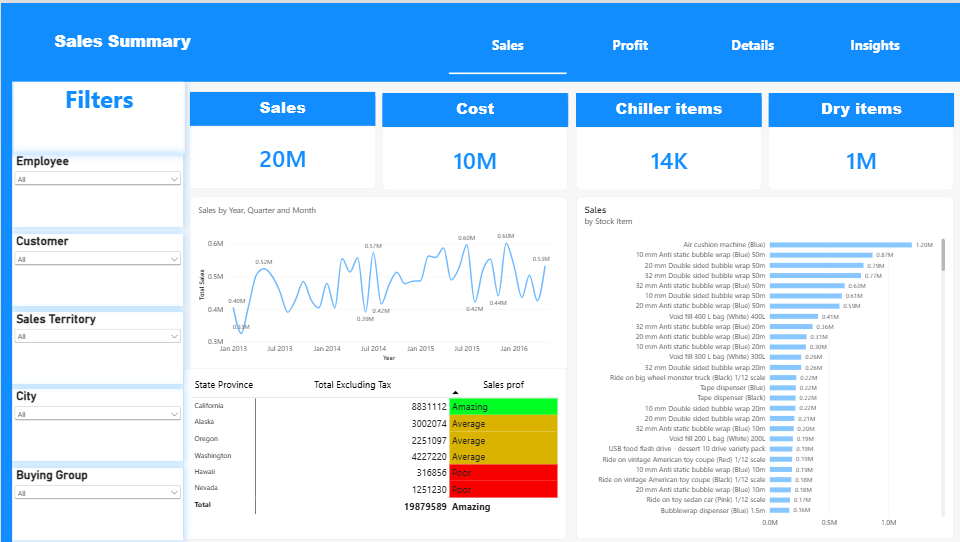

The dashboard page shown, as its layout file describes it:
{"tool":"powerbi","page":{"name":"Sales","canvas":[1920,1080],"ordinal":0},"visuals":[{"type":"shape","box":[0,0,1919.2,157.7],"z":0},{"type":"shape","box":[0,144.2,23.1,936.5],"z":1000},{"type":"textbox","box":[0,51.8,485.7,66.1],"z":2000},{"type":"shape","box":[23.1,157.7,342.3,923.1],"z":3000},{"type":"cardVisual","title":"Sales","fields":{"Data":["Sum(FactSale.Total Excluding Tax)"]},"box":[376.8,178.6,371.2,194.2],"z":4000},{"type":"cardVisual","title":"Cost","fields":{"Data":["Sum(FactSale.Cost)"]},"box":[761.5,178.8,371.2,194.2],"z":5000},{"type":"cardVisual","title":"Chiller items","fields":{"Data":["Sum(FactSale.Total Chiller Items)"]},"box":[1150,178.8,371.2,194.2],"z":6000},{"type":"cardVisual","title":"Dry items","fields":{"Data":["Sum(FactSale.Total Dry Items)"]},"box":[1534.6,178.8,371.2,194.2],"z":7000},{"type":"lineChart","fields":{"Category":["DimDate.Date.Variation.Date Hierarchy.Year","DimDate.Date.Variation.Date Hierarchy.Quarter","DimDate.Date.Variation.Date Hierarchy.Month","DimDate.Date.Variation.Date Hierarchy.Day"],"Y":["Sum(FactSale.Total Excluding Tax)"]},"box":[376.9,388.5,755.8,346.2],"z":8000},{"type":"pivotTable","fields":{"Rows":["DinCity.State Province"],"Values":["Sum(FactSale.Total Excluding Tax)","FactSale.Sales prof"]},"box":[366.1,730.4,766.1,342.9],"z":9000},{"type":"barChart","fields":{"Category":["DimStockitem.Stock Item"],"Y":["Sum(FactSale.Total Excluding Tax)"]},"box":[1150,388.5,755.8,684.6],"z":10000},{"type":"slicer","fields":{"Values":["DimEmployee.Employee"]},"box":[23.1,301.9,342.3,145],"z":11000},{"type":"slicer","fields":{"Values":["DimCustomer.Customer"]},"box":[23.1,461.5,342.3,144.2],"z":12000},{"type":"slicer","fields":{"Values":["DinCity.Sales Territory"]},"box":[23.1,617.3,342.3,144.2],"z":13000},{"type":"slicer","fields":{"Values":["DinCity.City"]},"box":[23.1,773.1,342.3,144.2],"z":14000},{"type":"slicer","fields":{"Values":["DimCustomer.Buying Group"]},"box":[23.1,928.8,342.3,144.2],"z":15000},{"type":"textbox","box":[24,158,342,144],"z":16000},{"type":"pageNavigator","box":[896,26,974,118],"z":17000}]}

Visuals, with their boxes in screenshot pixels (x1, y1, x2, y2), scaled from the page's 1920x1080 canvas onto the 960x542 screenshot:
shape: crop(0, 0, 959, 79)
shape: crop(0, 72, 12, 541)
textbox: crop(0, 26, 243, 59)
shape: crop(12, 79, 183, 541)
"Sales" cardVisual: crop(188, 90, 374, 187)
"Cost" cardVisual: crop(381, 90, 566, 187)
"Chiller items" cardVisual: crop(575, 90, 761, 187)
"Dry items" cardVisual: crop(767, 90, 953, 187)
lineChart - DimDate.Date.Variation.Date Hierarchy.Year x DimDate.Date.Variation.Date Hierarchy.Quarter: crop(188, 195, 566, 369)
pivotTable - DinCity.State Province x Sum(FactSale.Total Excluding Tax): crop(183, 367, 566, 539)
barChart - DimStockitem.Stock Item x Sum(FactSale.Total Excluding Tax): crop(575, 195, 953, 539)
slicer - DimEmployee.Employee: crop(12, 152, 183, 224)
slicer - DimCustomer.Customer: crop(12, 232, 183, 304)
slicer - DinCity.Sales Territory: crop(12, 310, 183, 382)
slicer - DinCity.City: crop(12, 388, 183, 460)
slicer - DimCustomer.Buying Group: crop(12, 466, 183, 538)
textbox: crop(12, 79, 183, 152)
pageNavigator: crop(448, 13, 935, 72)
